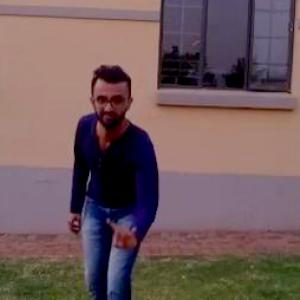takeoff-hand: (105, 205, 142, 258)
